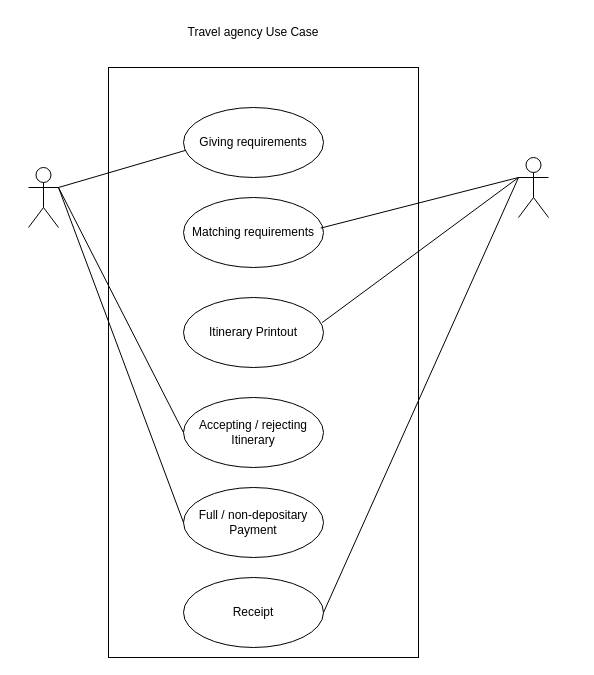
Image size: 594x675. Some labels were removed from this diagram. Each missing label, with the centre of its shape:
Customer: point 43,197
Sales consultant: point 533,187
